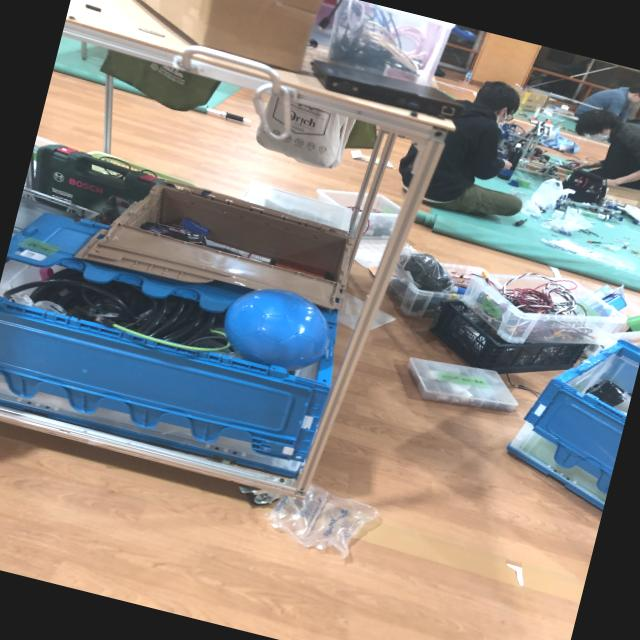blue_ball: (217, 281, 341, 378)
